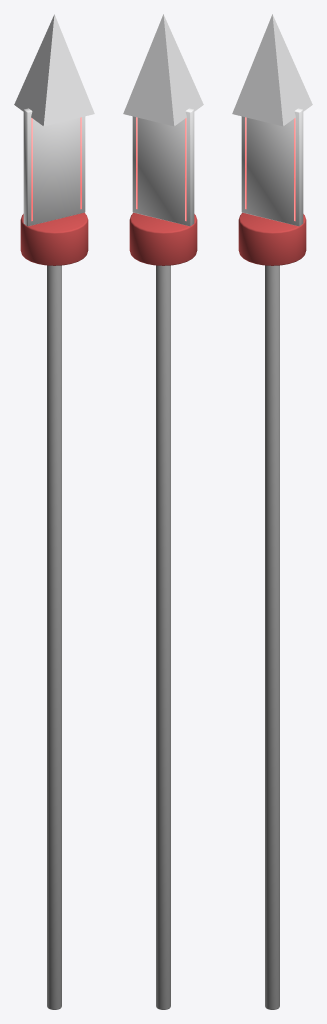
Rendered from yari-001.glb.
The picture shows the model from 3 angles, left to right: view 1: azimuth 30°, elevation 25°; view 2: azimuth 150°, elevation 25°; view 3: azimuth 330°, elevation 25°; orthographic projection.
Parts seen in each view (by area): view 1: weapon_spear; view 2: weapon_spear; view 3: weapon_spear.
Part boxes in pixels (bbox=[...]): weapon_spear: bbox=[14, 14, 94, 1009]; weapon_spear: bbox=[123, 14, 203, 1009]; weapon_spear: bbox=[232, 14, 312, 1009].
Size of the model in its own units: 0.144 by 2.34 by 0.144.
